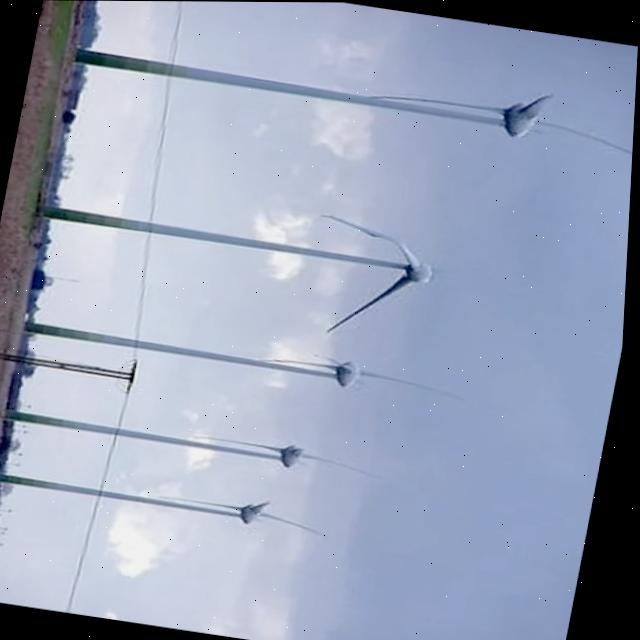damaged-blade: (325, 214, 423, 265)
solid-blade: (330, 275, 416, 332)
